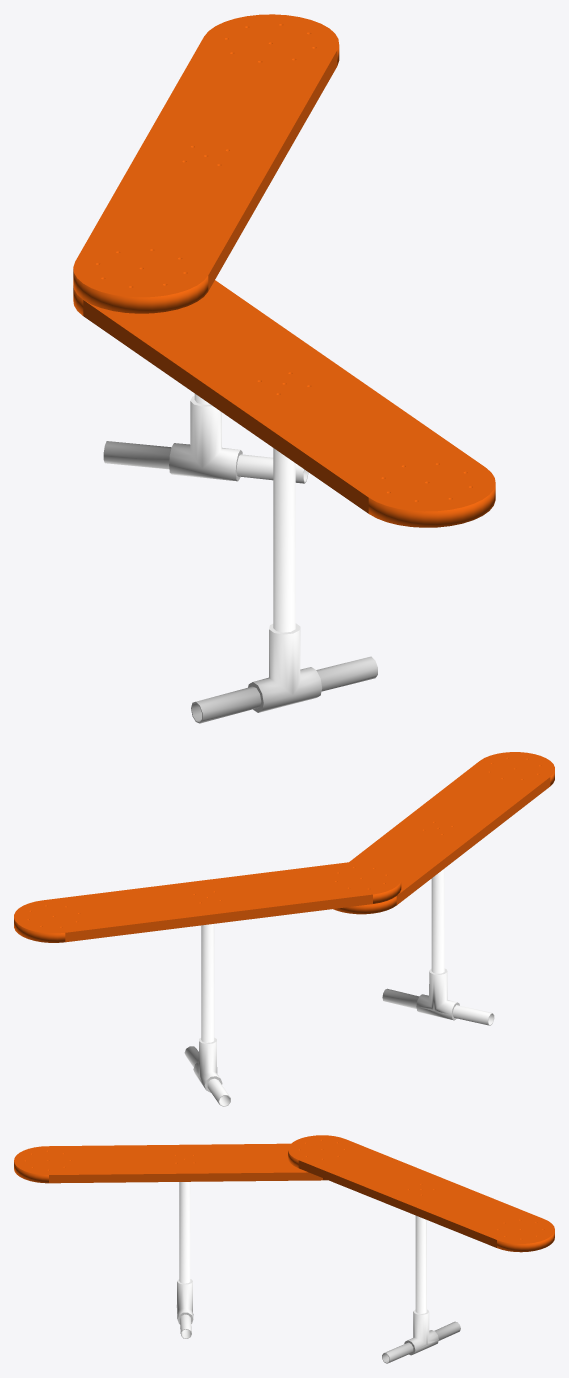
File: pathmarker2.dae
3 views of the same model, one above another, from view 1: azimuth 30°, elevation 25°; view 2: azimuth 150°, elevation 25°; view 3: azimuth 270°, elevation 25° (orthographic). The views are drawn at different scales.
Visible parts, largest first — view 1: path_marker.001; view 2: path_marker.001; view 3: path_marker.001.
Boxes of the visible parts, x1=… form: path_marker.001: x1=73, y1=14, x2=495, y2=723; path_marker.001: x1=14, y1=752, x2=554, y2=1106; path_marker.001: x1=14, y1=1135, x2=554, y2=1363.
Size of the model in its own units: 0.6038 by 1.2 by 0.4125.
Materials: 2 (1 with a texture image).
